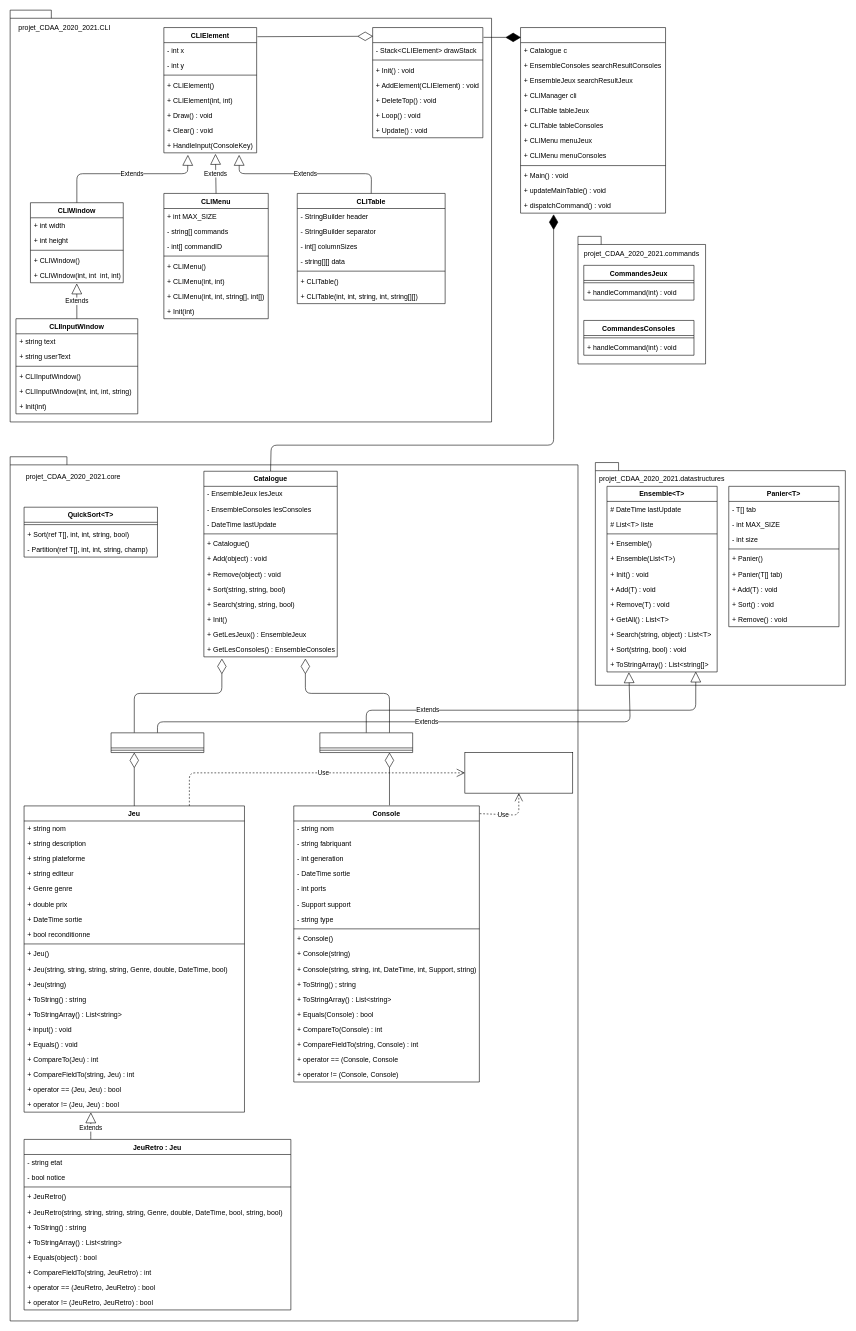
Image size: 856x1331. Some labels were removed from this diagram. Here are the shapes that lost their labels. From the top down, the box of each, then its label:
(372, 27, 483, 138): CLIManager
(520, 27, 666, 213): Program
(110, 732, 204, 753): EnsembleJeux
(319, 732, 413, 753): EnsembleConsoles
(464, 752, 573, 793): <<Interface>> IFieldComparable<T> + CompareFieldTo(string, T) : int
